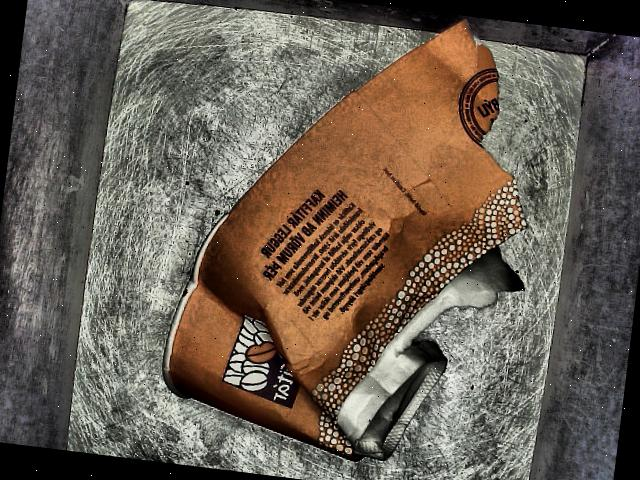Paper: (147, 0, 553, 480)
